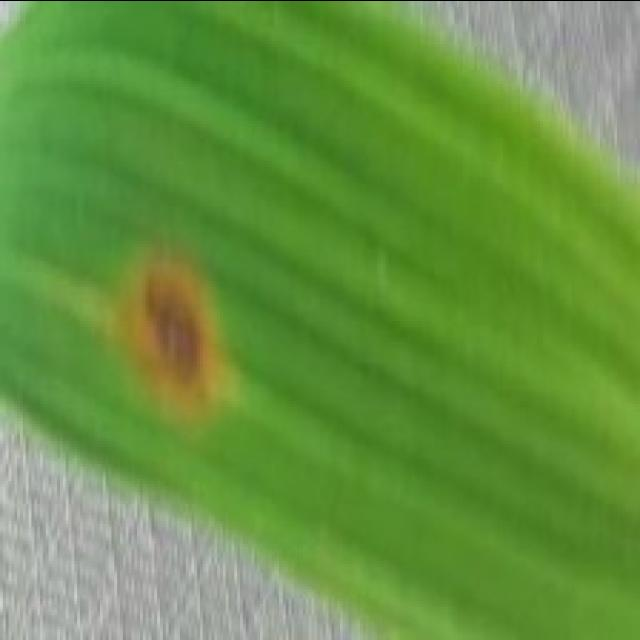Unhealthy: (110, 244, 239, 423)
